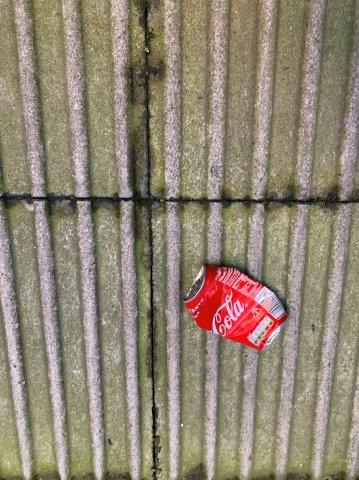kaleng: (185, 266, 286, 350)
